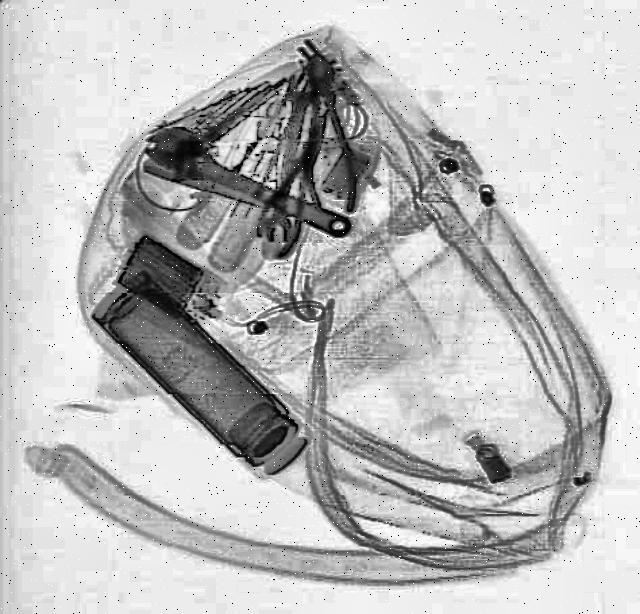Pliers: (242, 130, 336, 262), (294, 55, 358, 217)
Wrench: (132, 120, 360, 258)
